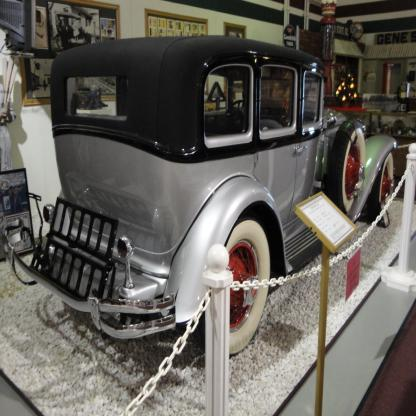Car: (3, 36, 399, 362)
